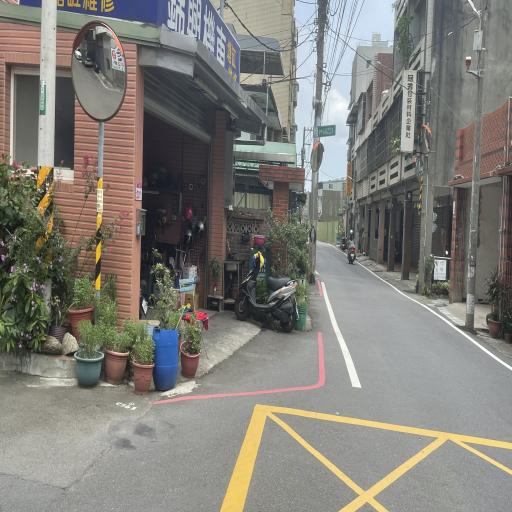redline: (145, 327, 328, 414), (314, 273, 322, 303)
